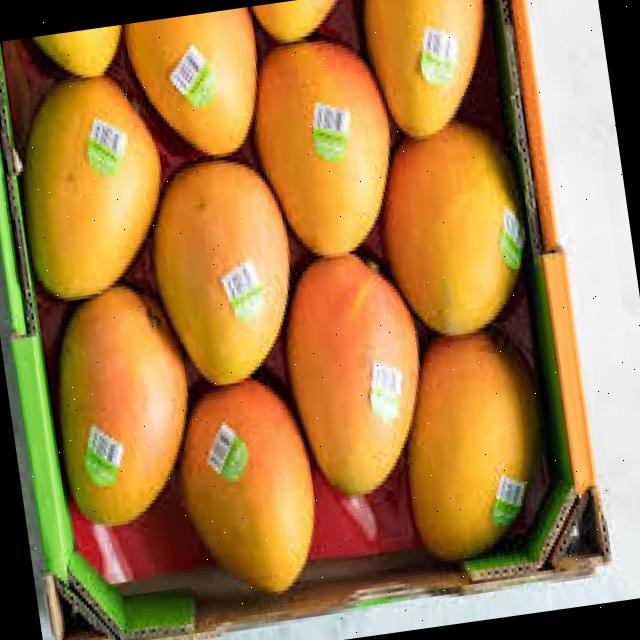mango: (278, 256, 419, 500)
